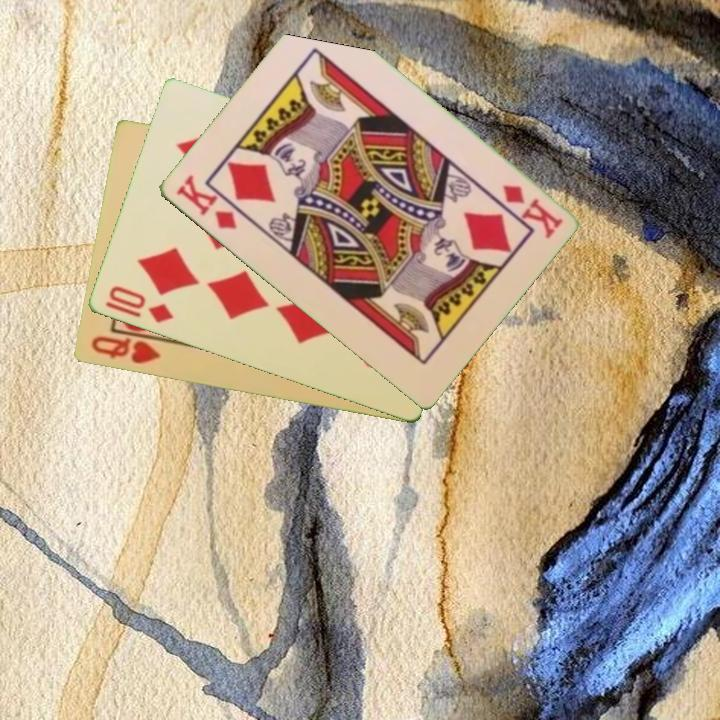10d: (101, 282, 176, 327)
Kd: (171, 171, 240, 233), (498, 181, 565, 241)
Qh: (87, 328, 170, 368)
